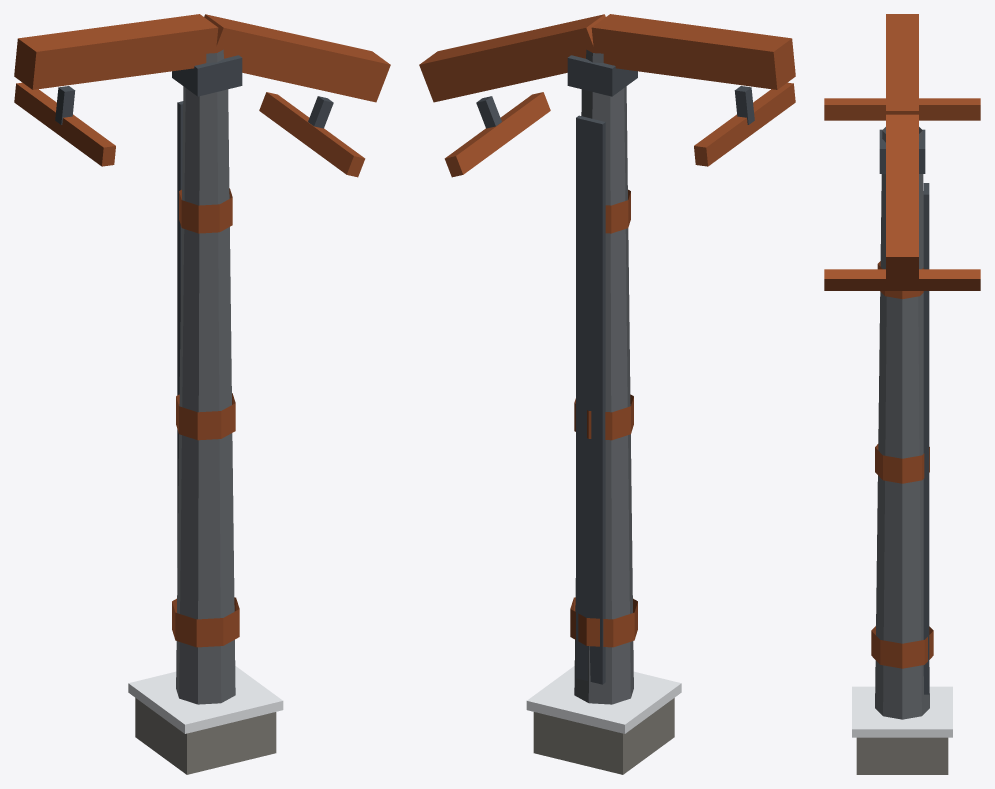
Rendered from lift-tower-derelict.glb.
The picture shows the model from 3 angles, left to right: view 1: azimuth 30°, elevation 25°; view 2: azimuth 150°, elevation 25°; view 3: azimuth 270°, elevation 25°; orthographic projection. The views are drawn at different scales.
Visible parts, largest first — view 1: lift-tower-derelict; view 2: lift-tower-derelict; view 3: lift-tower-derelict.
Part boxes in pixels (box(x1,y1,x2,y2)): lift-tower-derelict: box(14, 14, 390, 774); lift-tower-derelict: box(419, 14, 795, 774); lift-tower-derelict: box(824, 14, 980, 774).
Size of the model in its own units: 4.01 by 7.96 by 1.7.
